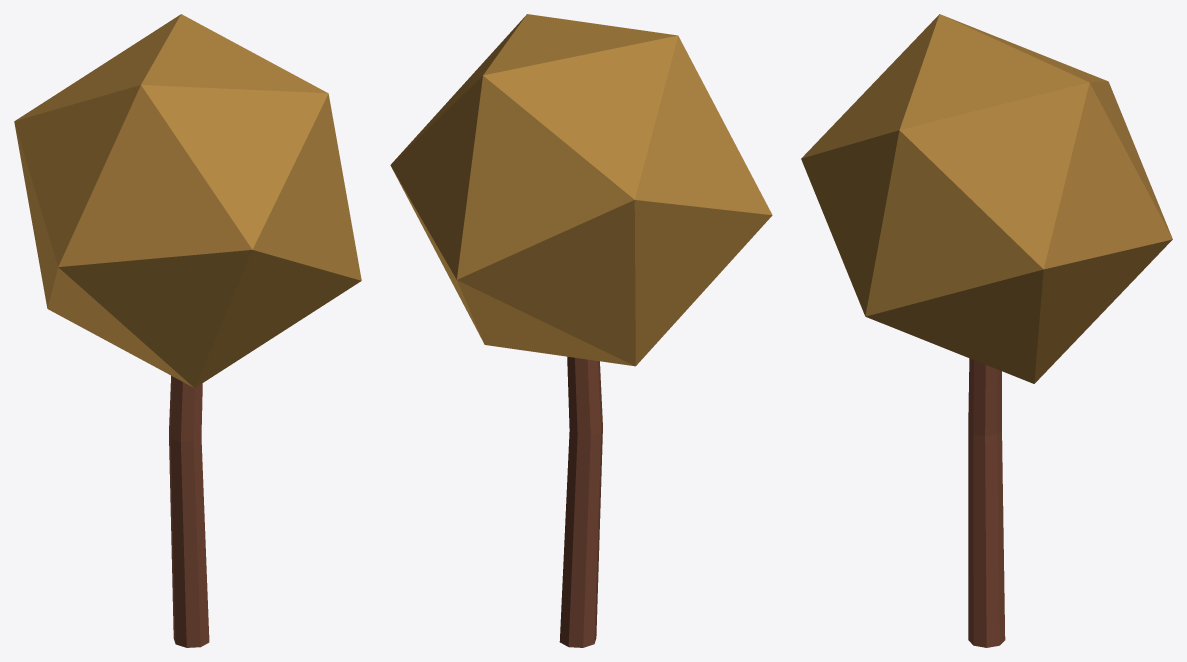
Rendered from Tree_40_autumn_vc.fbx.
3 views of the same model, side by side, from view 1: azimuth 30°, elevation 25°; view 2: azimuth 150°, elevation 25°; view 3: azimuth 270°, elevation 25° (orthographic). The views are drawn at different scales.
Visible parts, largest first — view 1: Tree_40_autumn_vc; view 2: Tree_40_autumn_vc; view 3: Tree_40_autumn_vc.
Part boxes in pixels (<box>): Tree_40_autumn_vc: <box>14,14,361,647</box>; Tree_40_autumn_vc: <box>390,14,772,647</box>; Tree_40_autumn_vc: <box>801,14,1172,647</box>.
Size of the model in its own units: 110 by 196 by 112.
